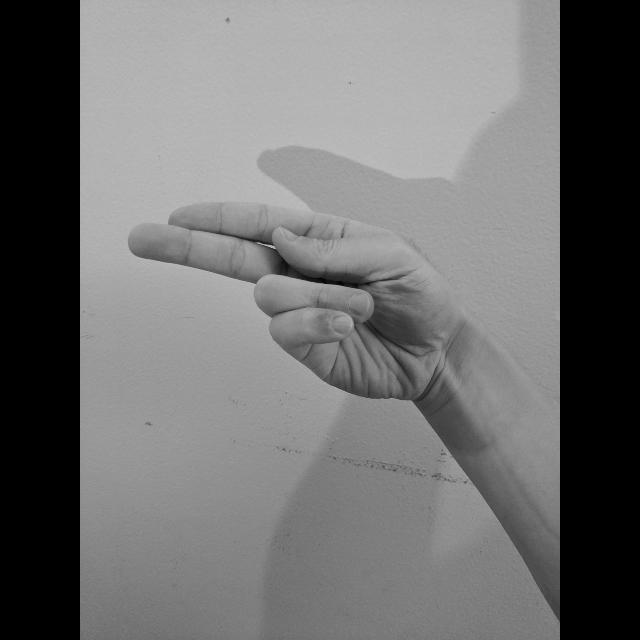H: (123, 194, 470, 406)
